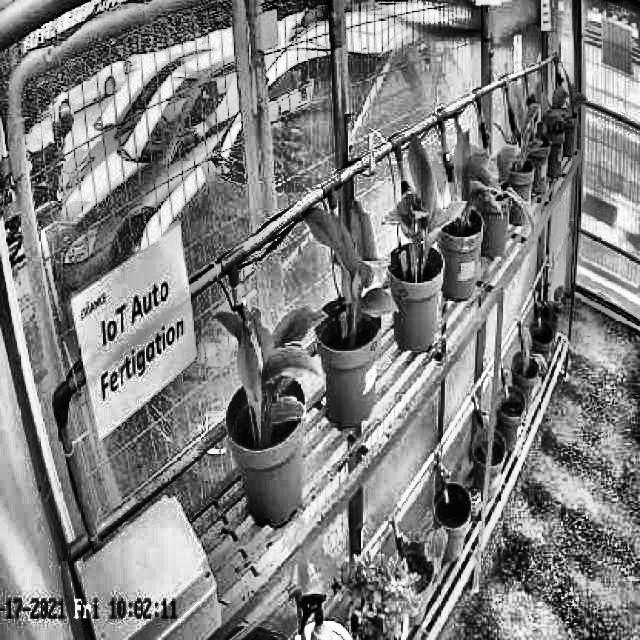plants: (213, 310, 327, 424), (304, 201, 398, 317), (388, 130, 456, 258), (448, 120, 503, 228), (513, 89, 547, 169)
